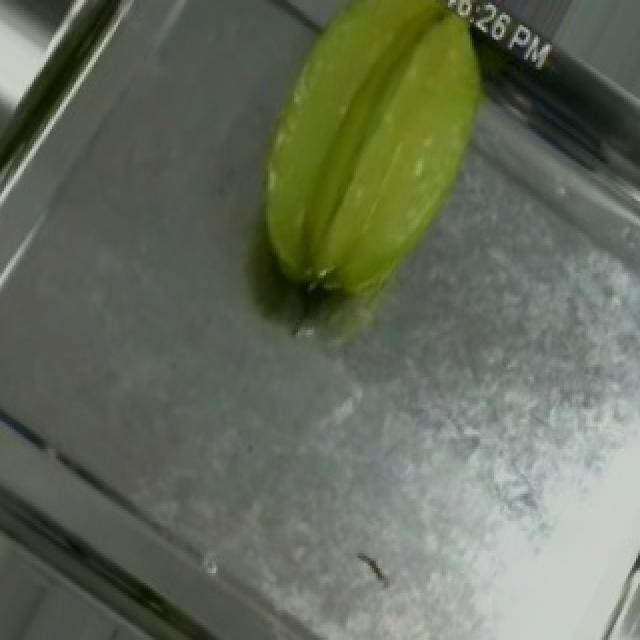fruit: (188, 0, 542, 332)
